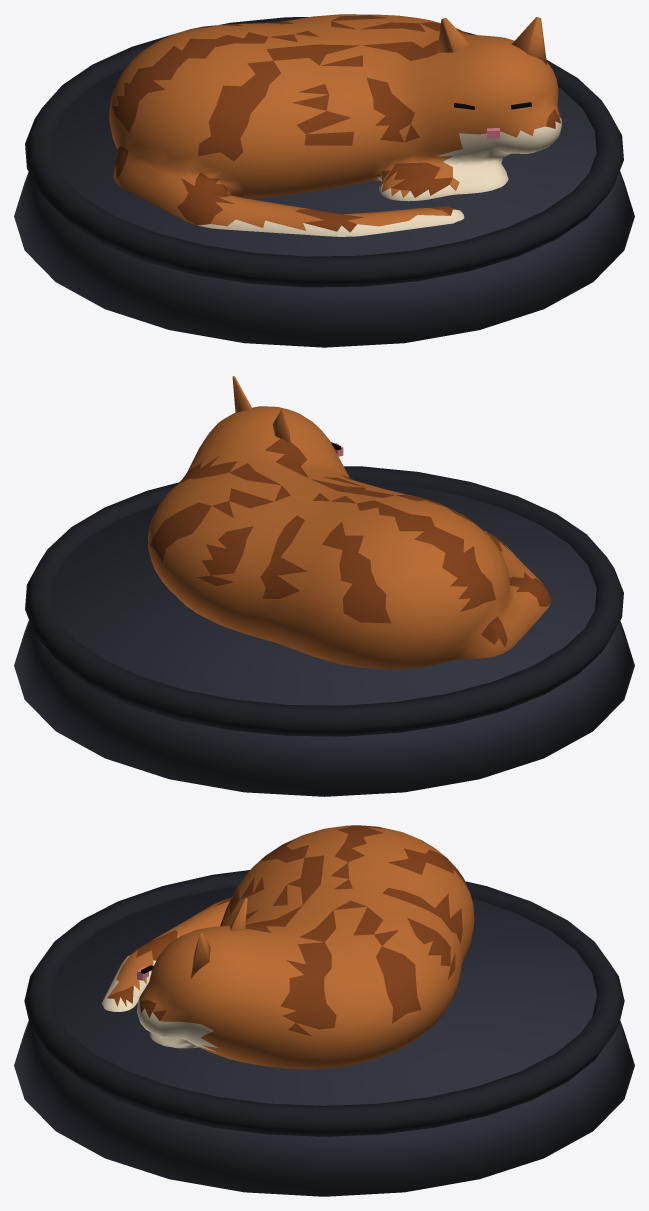
Rendered from Pet_Cat_Curled.glb.
The picture shows the model from 3 angles, top to bottom: view 1: azimuth 30°, elevation 25°; view 2: azimuth 150°, elevation 25°; view 3: azimuth 270°, elevation 25°; orthographic projection.
Parts seen in each view (by area): view 1: Pet_Cat_Curled, CatCurled_Body; view 2: Pet_Cat_Curled, CatCurled_Body; view 3: Pet_Cat_Curled, CatCurled_Body.
Boxes of the visible parts, x1,y1,x2,y2 form: Pet_Cat_Curled: [14, 17, 634, 347]; CatCurled_Body: [109, 14, 561, 236]; Pet_Cat_Curled: [14, 466, 634, 796]; CatCurled_Body: [148, 376, 551, 669]; Pet_Cat_Curled: [14, 870, 634, 1196]; CatCurled_Body: [101, 825, 474, 1069].
Size of the model in its own units: 0.48 by 0.1768 by 0.48.
